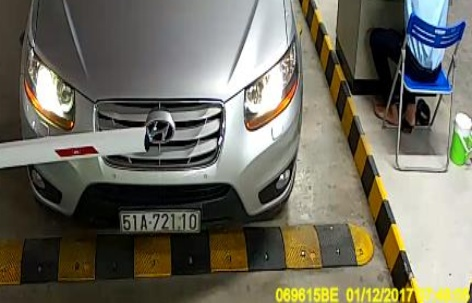plate: (117, 205, 202, 235)
